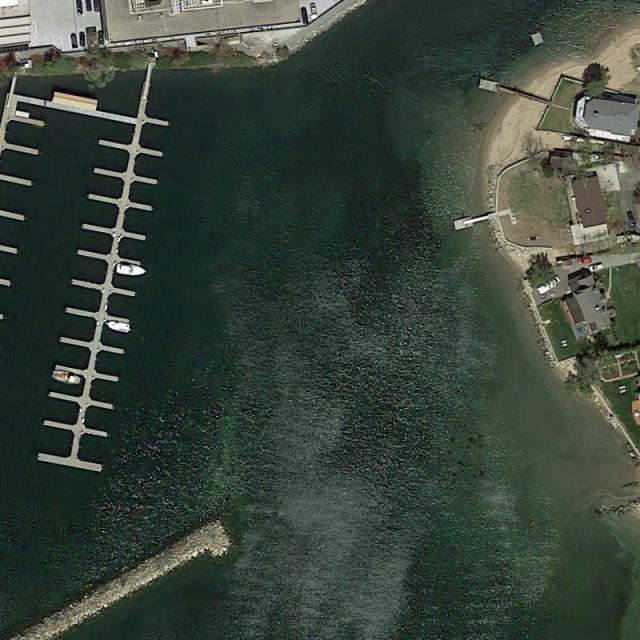vehicle: (537, 275, 560, 296), (626, 210, 639, 228), (579, 254, 594, 266), (587, 260, 602, 271), (301, 8, 309, 28), (70, 33, 79, 50), (98, 31, 106, 46), (75, 1, 83, 15), (85, 1, 94, 13), (79, 31, 85, 48), (310, 2, 318, 14), (94, 1, 101, 13), (634, 120, 640, 129)
